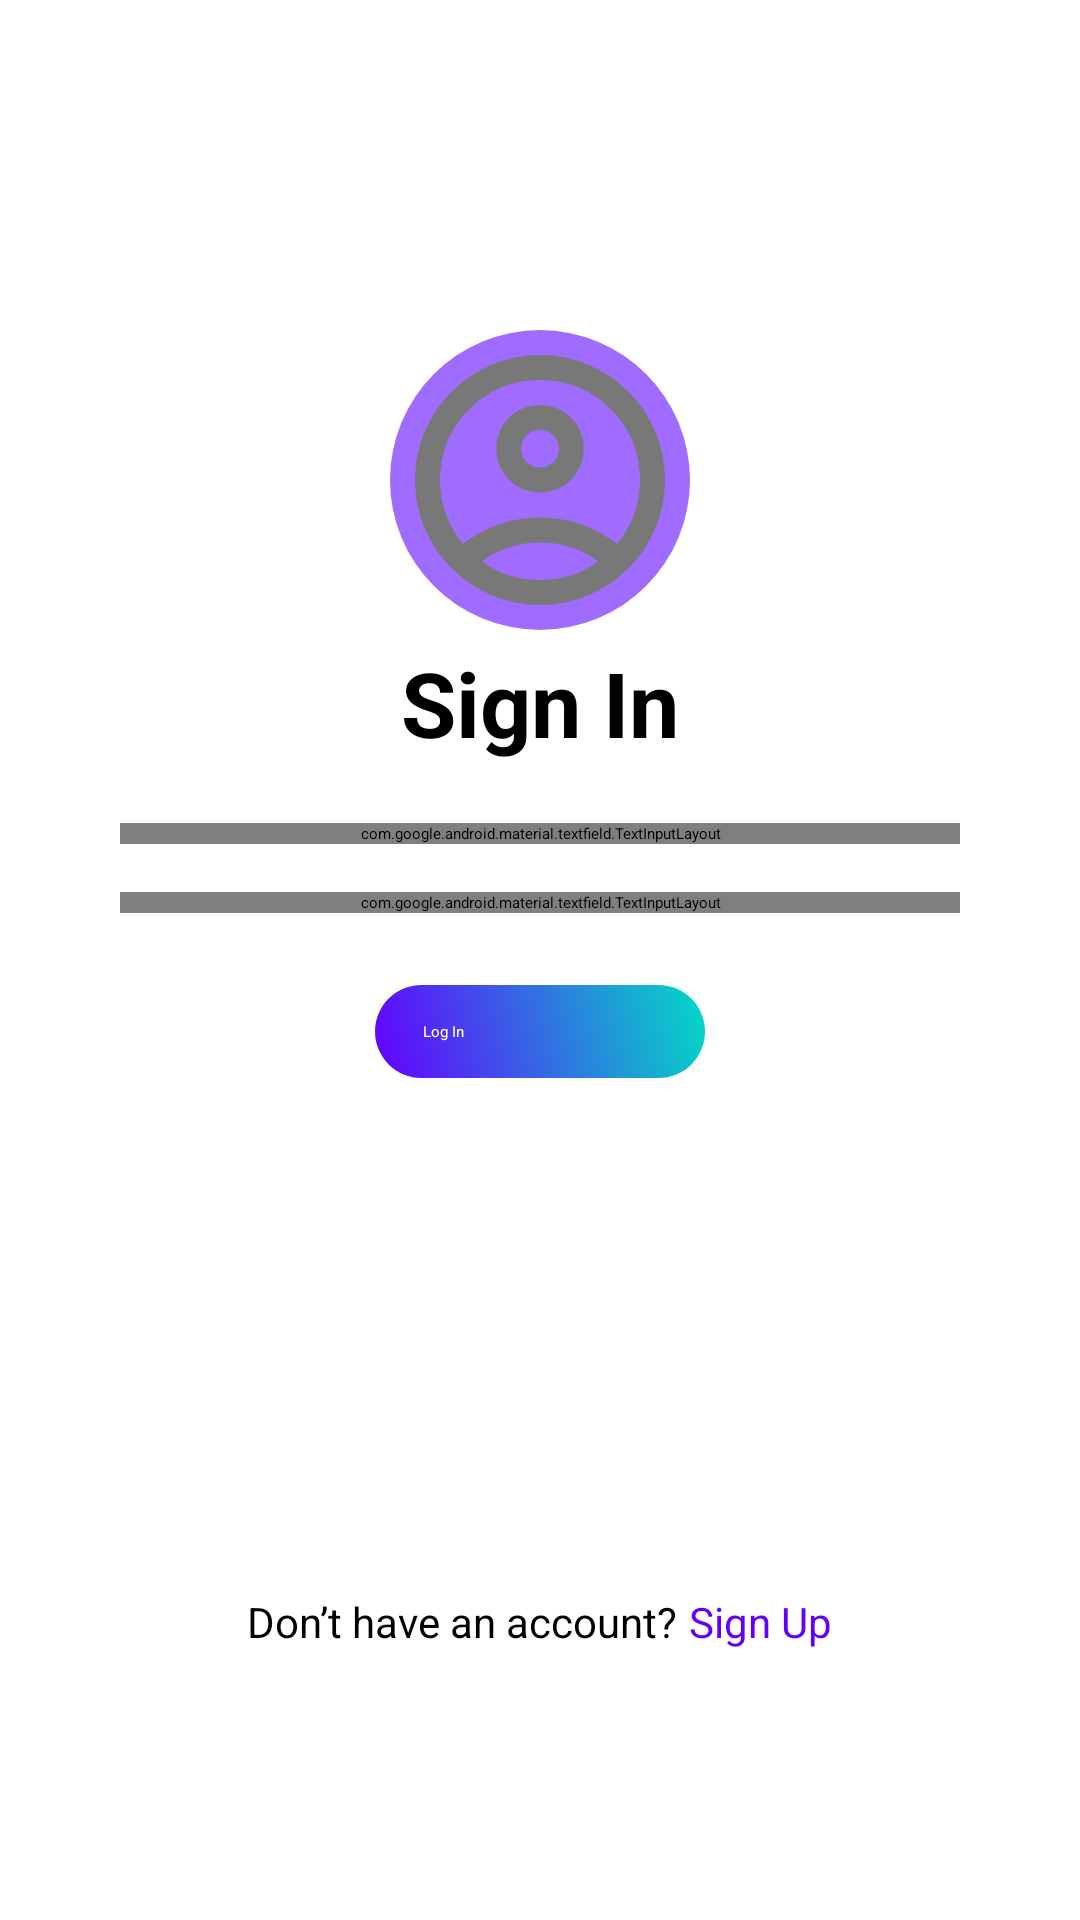

Where to tap for icons on this 1080 × 1920 app screen, as [x,y]:
account circle: [540,480]
